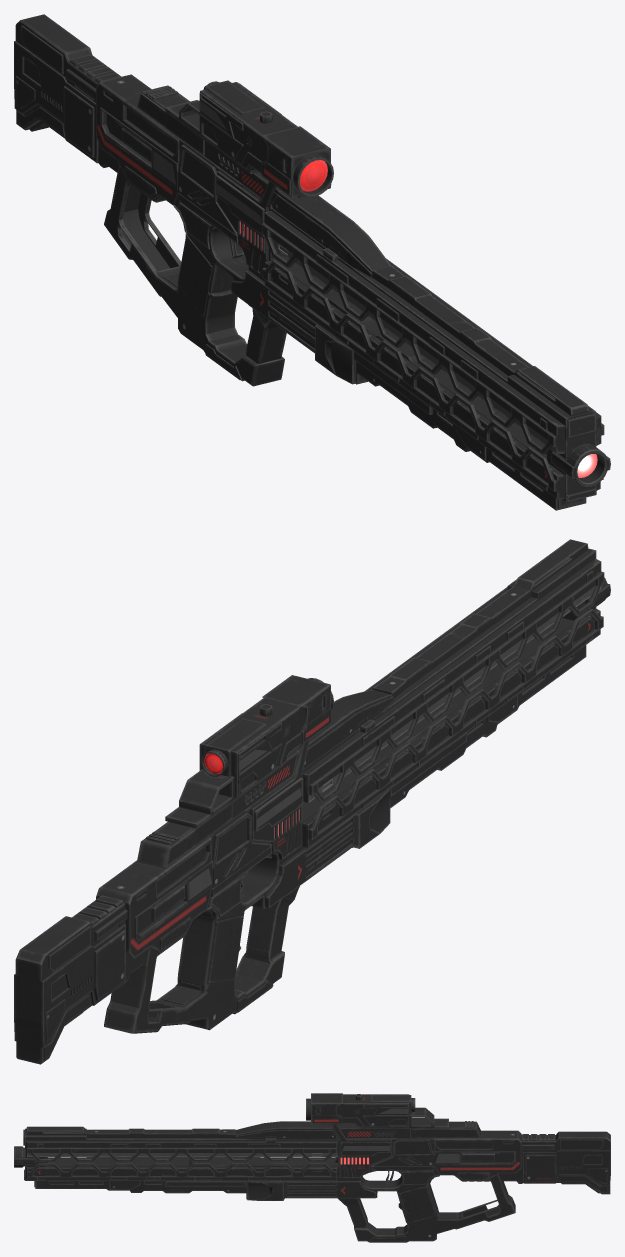
3 renders of one model, top to bottom at view 1: azimuth 30°, elevation 25°; view 2: azimuth 150°, elevation 25°; view 3: azimuth 270°, elevation 25°, orthographic. The views are drawn at different scales.
Parts seen in each view (by area): view 1: Body5; view 2: Body5; view 3: Body5.
Part boxes in pixels (x1=…): Body5: x1=14, y1=14, x2=610, y2=510; Body5: x1=14, y1=539, x2=610, y2=1064; Body5: x1=14, y1=1093, x2=610, y2=1242.
Size of the model in its own units: 0.0796 by 0.4076 by 1.54.
4 materials, 4 textured.
